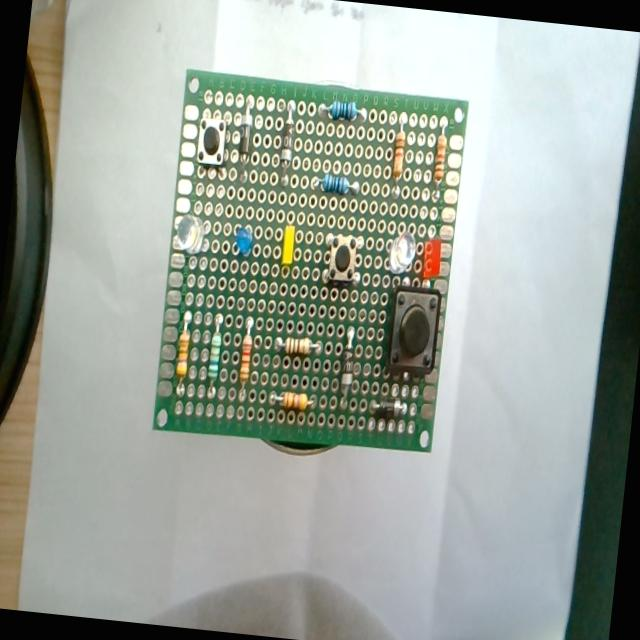diode: (235, 104, 254, 183), (340, 326, 360, 398), (279, 100, 297, 164), (368, 396, 408, 422)
led: (173, 212, 206, 255), (387, 229, 418, 274), (230, 220, 260, 258), (420, 236, 442, 280), (280, 224, 296, 266)
resistor: (204, 314, 224, 396), (236, 316, 255, 399), (174, 312, 193, 393), (317, 96, 367, 124), (431, 127, 450, 196), (388, 127, 406, 196), (314, 171, 361, 197), (274, 335, 320, 357), (269, 390, 312, 411)
switch: (384, 284, 444, 378), (324, 234, 361, 288), (195, 116, 228, 168)
